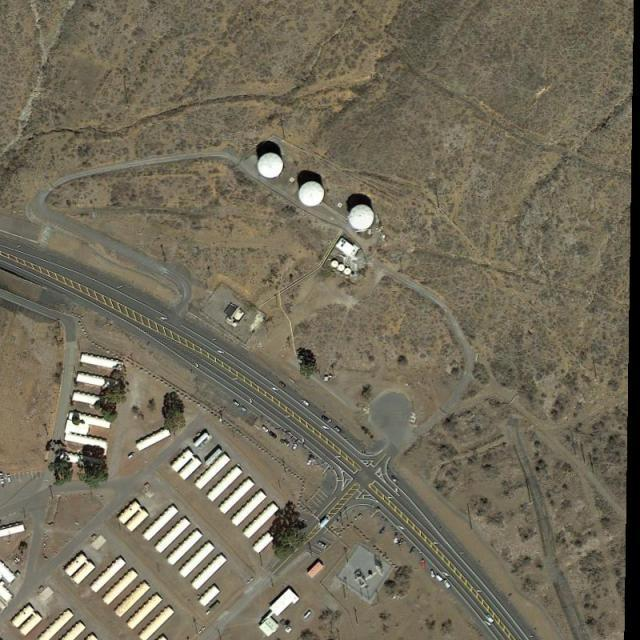vehicle: (442, 578, 451, 590), (485, 613, 495, 623), (306, 456, 314, 467), (435, 574, 444, 583), (318, 541, 327, 549), (278, 382, 287, 390), (322, 415, 330, 424), (302, 400, 311, 408), (269, 430, 278, 438), (127, 452, 136, 460), (420, 559, 427, 569), (262, 426, 270, 434), (391, 474, 398, 482), (398, 538, 405, 546), (430, 569, 436, 578), (1, 478, 6, 488), (335, 426, 342, 433), (232, 401, 240, 407), (410, 546, 416, 554), (7, 476, 12, 485), (241, 406, 247, 413), (293, 443, 298, 451)
